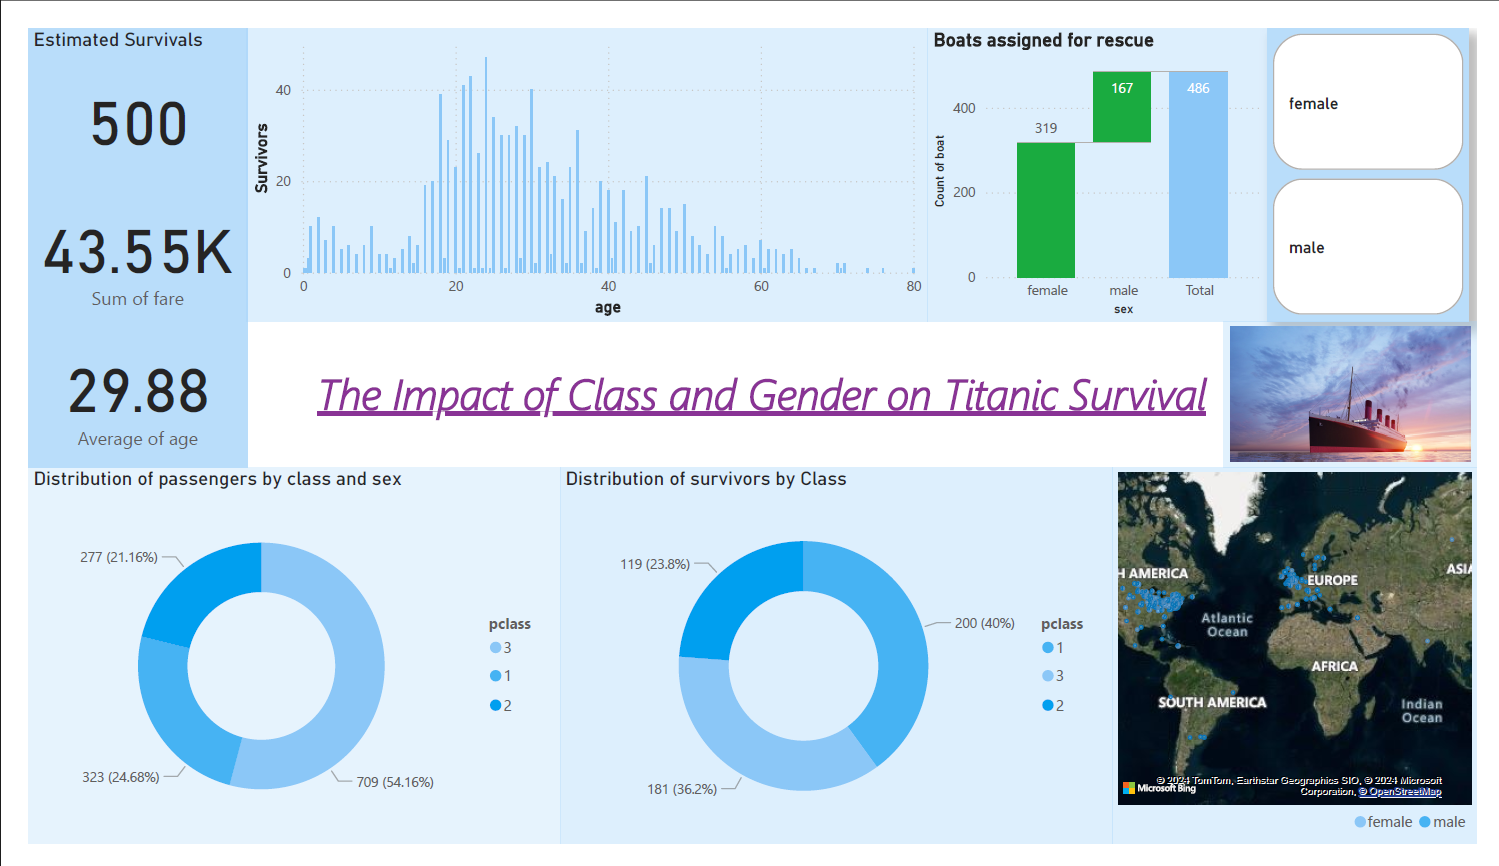

This screenshot's page, from the dashboard's own definition file:
{"tool":"powerbi","page":{"name":"Page 1","canvas":[1280,720],"ordinal":0},"visuals":[{"type":"card","fields":{"Values":["Sum(titanic3.fare)"]},"box":[0,129.4,193.6,143],"z":0},{"type":"card","fields":{"Values":["Avg(titanic3.age)"]},"box":[0,258.7,193.6,129.4],"z":1000},{"type":"card","title":"Estimated Survivals","fields":{"Values":["Sum(titanic3.survived)"]},"box":[0,0,193.6,135.2],"z":2000},{"type":"clusteredColumnChart","fields":{"Y":["CountNonNull(titanic3.survived)"],"Category":["titanic3.age"]},"box":[193.2,0,602,258.8],"z":3000},{"type":"donutChart","title":"Distribution of passengers by class and sex","fields":{"Category":["titanic3.pclass"],"Y":["CountNonNull(titanic3.sex)"]},"box":[0,388.1,470.1,332.1],"z":4000},{"type":"donutChart","title":"Distribution of survivors by Class","fields":{"Category":["titanic3.pclass"],"Y":["Sum(titanic3.survived)"]},"box":[470.1,388.1,488.2,332.1],"z":5000},{"type":"advancedSlicerVisual","fields":{"Values":["titanic3.sex"]},"box":[1094.6,0,178.5,258.8],"z":6000},{"type":"textbox","box":[201.8,292.4,891.9,74.2],"z":6001},{"type":"waterfallChart","title":"Boats assigned for rescue","fields":{"Category":["titanic3.sex"],"Y":["CountNonNull(titanic3.boat)"]},"box":[795,0,299,259],"z":6002},{"type":"map","fields":{"Size":["CountNonNull(titanic3.pclass)"],"Category":["titanic3.home.dest"],"Series":["titanic3.sex"]},"box":[958.3,388.1,321.7,332.1],"z":6003},{"type":"image","box":[1055.7,258.8,224.3,129.4],"z":6004}]}

Visuals, with their boxes in screenshot pixels (x1, y1, x2, y2), scaled from the page's 1280x720 canvas onto the 1499x866 screenshot:
card - Sum(titanic3.fare): {"x1": 0, "y1": 156, "x2": 227, "y2": 328}
card - Avg(titanic3.age): {"x1": 0, "y1": 311, "x2": 227, "y2": 467}
"Estimated Survivals" card: {"x1": 0, "y1": 0, "x2": 227, "y2": 163}
clusteredColumnChart - CountNonNull(titanic3.survived) x titanic3.age: {"x1": 226, "y1": 0, "x2": 931, "y2": 311}
"Distribution of passengers by class and sex" donutChart: {"x1": 0, "y1": 467, "x2": 551, "y2": 865}
"Distribution of survivors by Class" donutChart: {"x1": 551, "y1": 467, "x2": 1122, "y2": 865}
advancedSlicerVisual - titanic3.sex: {"x1": 1282, "y1": 0, "x2": 1491, "y2": 311}
textbox: {"x1": 236, "y1": 352, "x2": 1281, "y2": 441}
"Boats assigned for rescue" waterfallChart: {"x1": 931, "y1": 0, "x2": 1281, "y2": 312}
map - CountNonNull(titanic3.pclass) x titanic3.home.dest: {"x1": 1122, "y1": 467, "x2": 1498, "y2": 865}
image: {"x1": 1236, "y1": 311, "x2": 1498, "y2": 467}
